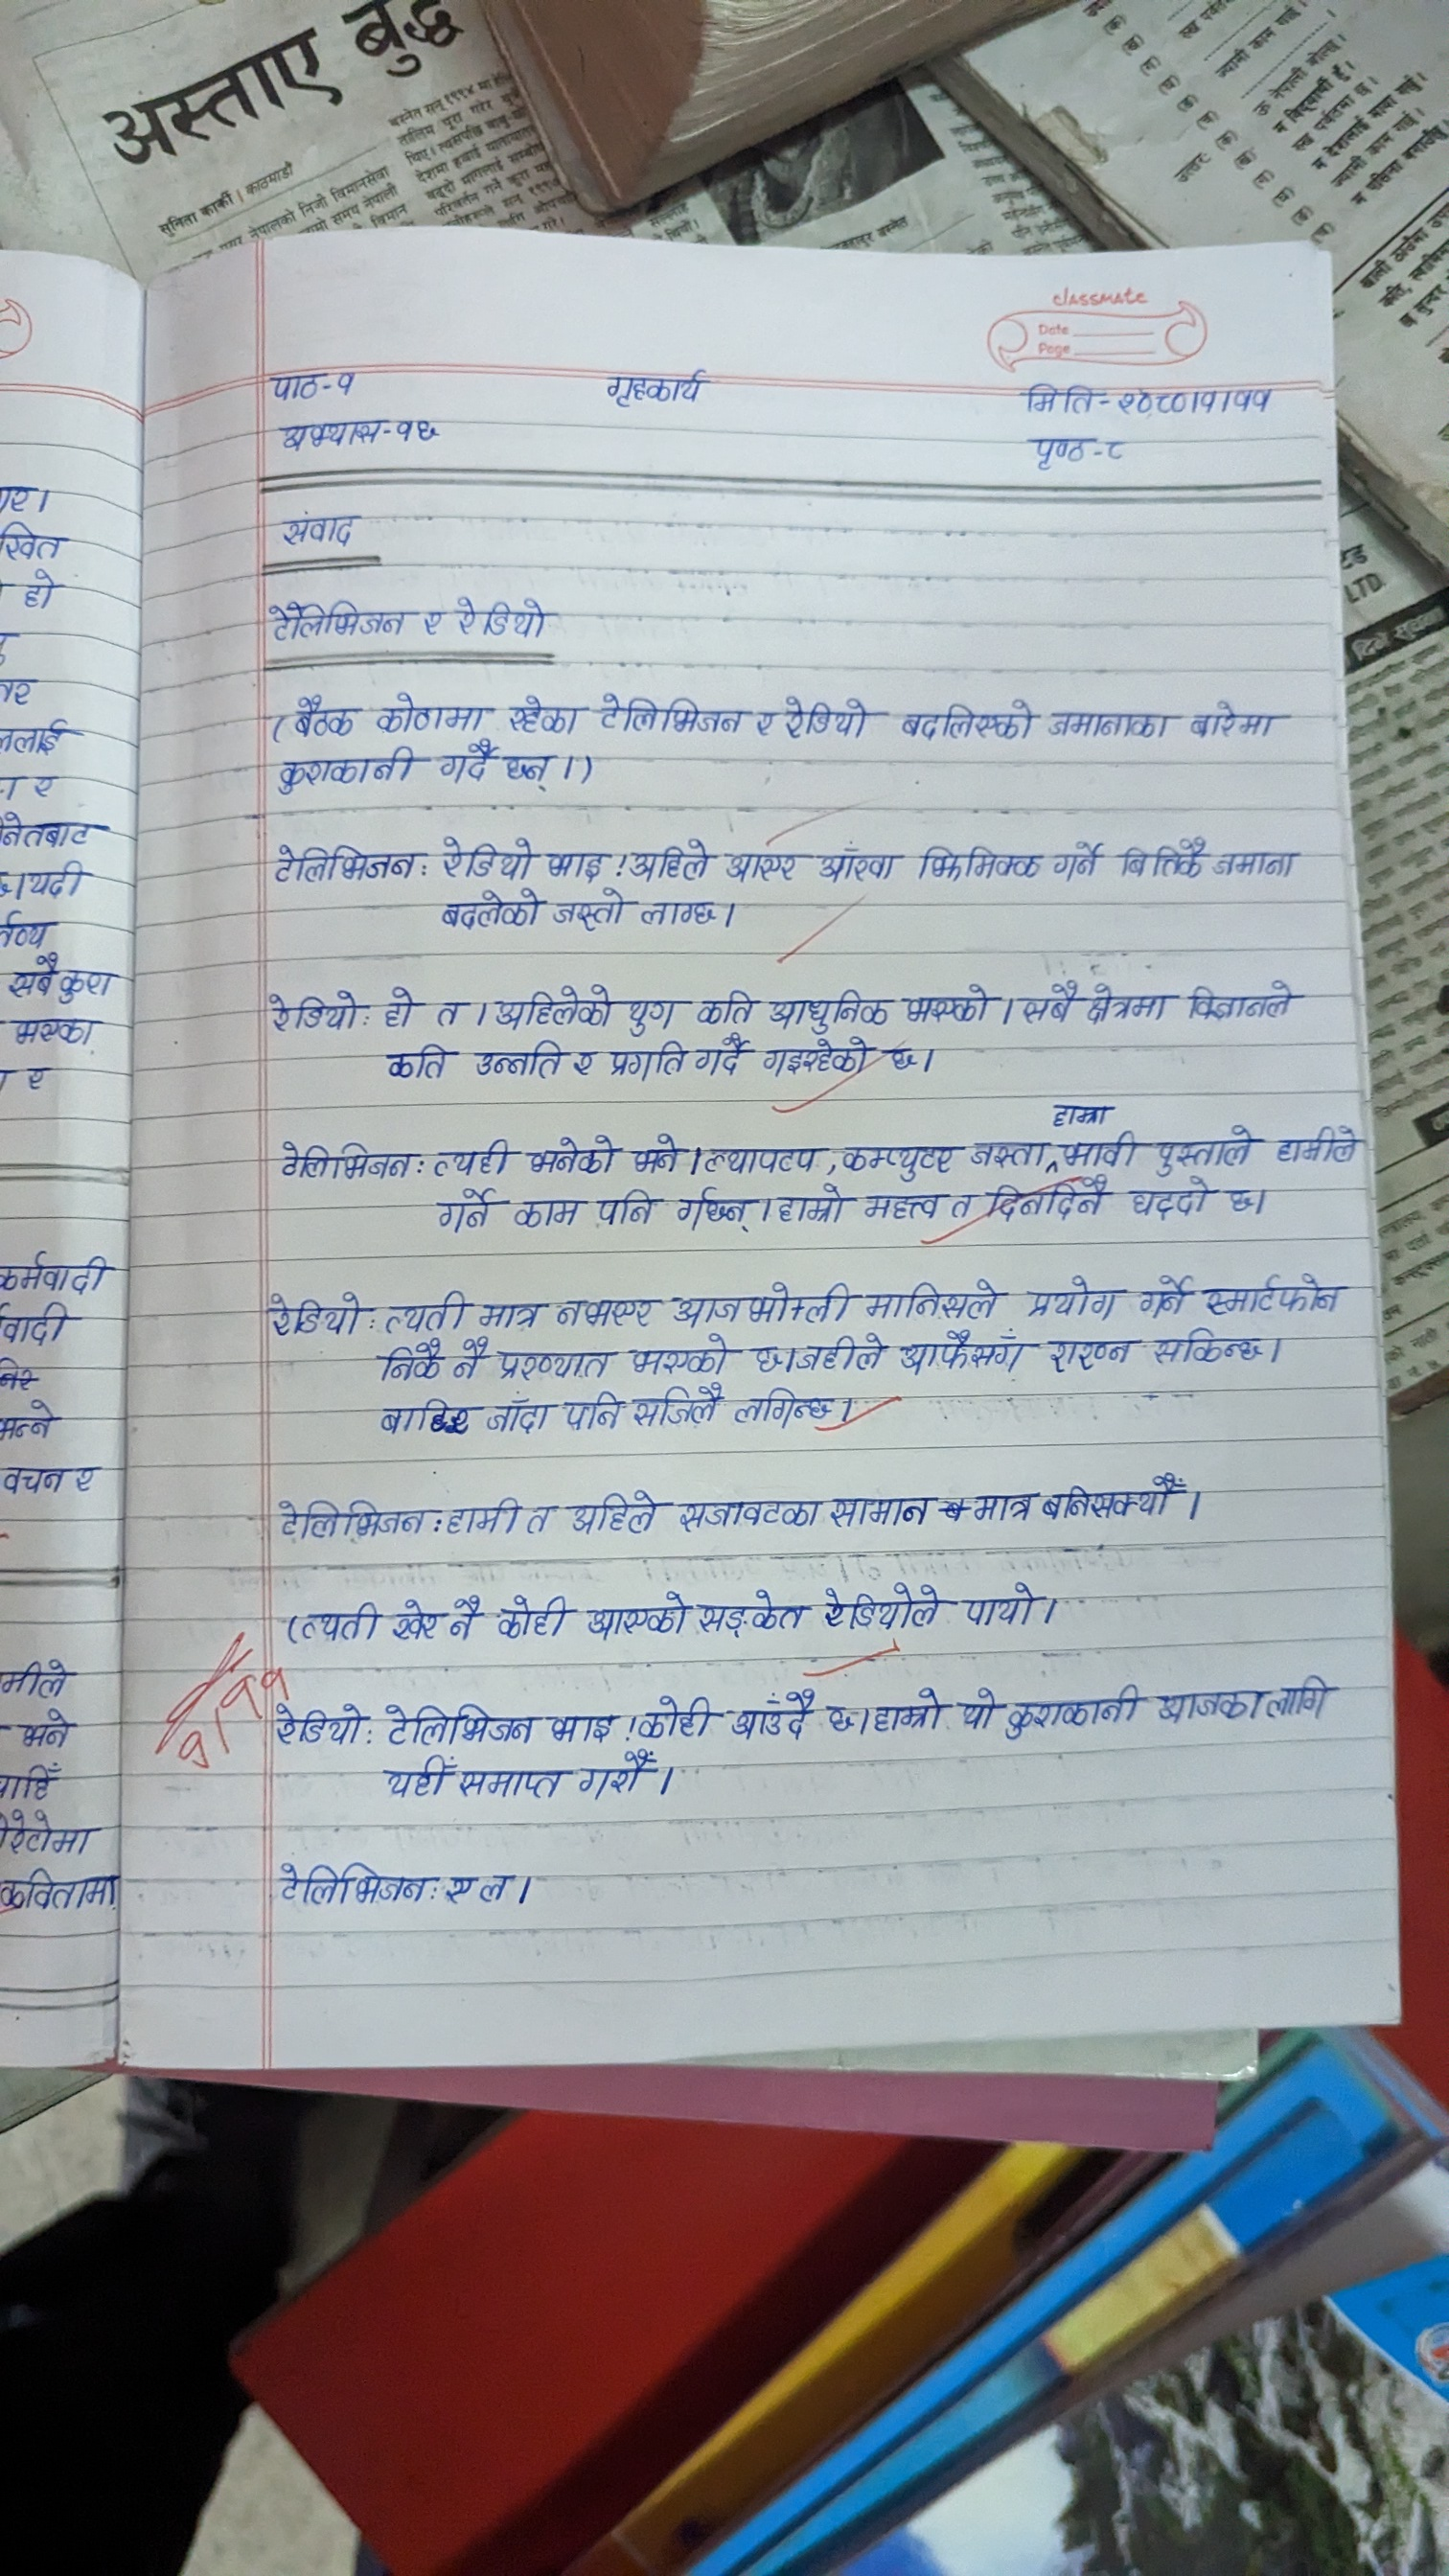text: (1040, 1468, 1187, 1527), (672, 1279, 853, 1325), (264, 837, 419, 888), (271, 1497, 428, 1546), (269, 1139, 425, 1189), (269, 1859, 425, 1909), (1201, 1270, 1343, 1323), (272, 745, 418, 796), (1005, 1684, 1139, 1739), (1185, 971, 1304, 1033), (384, 1700, 536, 1746), (487, 980, 614, 1035), (984, 1175, 1109, 1230), (862, 1274, 998, 1322), (596, 692, 743, 736), (901, 695, 1033, 743), (893, 1330, 1033, 1375), (1150, 1116, 1258, 1173), (766, 982, 893, 1030), (598, 361, 715, 412), (759, 1033, 870, 1086), (586, 1592, 690, 1649), (816, 1583, 947, 1628), (265, 598, 407, 639), (694, 1591, 807, 1637), (1049, 704, 1171, 747), (433, 832, 534, 883), (267, 985, 361, 1040), (922, 846, 1046, 886), (778, 694, 876, 745), (732, 1385, 837, 1433), (433, 890, 545, 934), (269, 1290, 361, 1343), (272, 1697, 364, 1750), (676, 1497, 821, 1530), (1083, 980, 1177, 1031), (731, 1686, 816, 1741), (1115, 830, 1205, 881), (1019, 1270, 1115, 1318), (1187, 695, 1279, 745), (375, 692, 487, 732), (1152, 1681, 1263, 1721), (702, 1141, 823, 1178), (271, 416, 384, 455), (524, 1134, 623, 1178), (1152, 1329, 1276, 1364), (283, 688, 363, 743), (962, 1580, 1047, 1631), (839, 1141, 955, 1178), (499, 1341, 616, 1378), (626, 1334, 732, 1375), (635, 1385, 729, 1431), (271, 504, 361, 552), (1123, 1175, 1214, 1223), (674, 1185, 757, 1237), (628, 837, 717, 885), (497, 1591, 577, 1644), (1212, 844, 1306, 888), (1040, 1332, 1141, 1373), (828, 1493, 938, 1530), (384, 1391, 476, 1435), (571, 1488, 660, 1534), (474, 1040, 564, 1085), (295, 1601, 382, 1647), (1269, 1672, 1341, 1727), (458, 1762, 559, 1801), (573, 1752, 662, 1796), (816, 839, 901, 885), (872, 1684, 948, 1736), (458, 600, 554, 640), (379, 1288, 465, 1332), (1272, 1123, 1362, 1166), (508, 692, 584, 741), (432, 1187, 502, 1238), (635, 1695, 717, 1739), (901, 985, 996, 1023), (448, 1491, 522, 1539), (379, 1755, 455, 1801), (432, 1139, 517, 1180), (773, 1180, 847, 1226), (798, 1334, 885, 1373), (556, 1295, 655, 1329), (487, 1391, 554, 1440), (1023, 375, 1100, 418), (554, 890, 628, 934), (609, 1042, 683, 1085), (386, 1042, 456, 1086), (1134, 1270, 1194, 1322), (630, 1129, 692, 1178), (377, 1338, 446, 1382), (589, 1185, 663, 1226), (437, 740, 501, 786), (639, 893, 725, 927), (559, 1389, 626, 1431), (1049, 835, 1106, 885), (968, 1139, 1051, 1173), (1016, 975, 1076, 1021), (547, 1706, 617, 1744), (623, 991, 678, 1040), (1062, 1132, 1138, 1168), (725, 849, 805, 883), (694, 1031, 747, 1081), (865, 1191, 939, 1226), (515, 1196, 584, 1233), (692, 991, 763, 1026), (545, 842, 603, 885), (478, 1295, 547, 1330), (971, 1488, 1033, 1527), (1049, 1100, 1125, 1131), (508, 754, 566, 793), (395, 1596, 439, 1647), (1118, 386, 1189, 418), (444, 1591, 483, 1647), (957, 1686, 1003, 1734), (1024, 433, 1086, 469), (377, 984, 416, 1037), (265, 370, 322, 403), (395, 410, 442, 449), (451, 1336, 490, 1384), (819, 1697, 860, 1741), (478, 1861, 513, 1911), (1233, 375, 1276, 416), (747, 1336, 786, 1376), (1223, 1182, 1258, 1224), (524, 1493, 556, 1539), (1109, 432, 1141, 476), (881, 1044, 925, 1074), (432, 993, 465, 1028), (571, 1044, 594, 1086), (1200, 380, 1223, 419), (750, 704, 773, 743), (950, 1189, 973, 1228), (421, 605, 446, 639), (446, 1872, 469, 1907), (331, 363, 359, 391)
